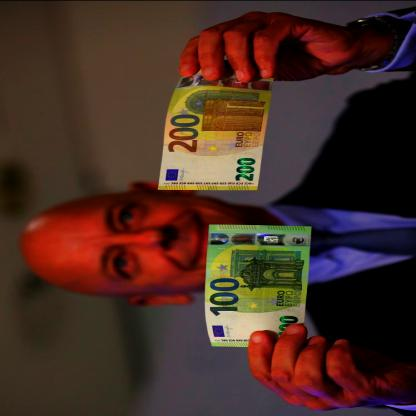euro_banknote: (150, 78, 284, 180), (199, 234, 320, 340)
